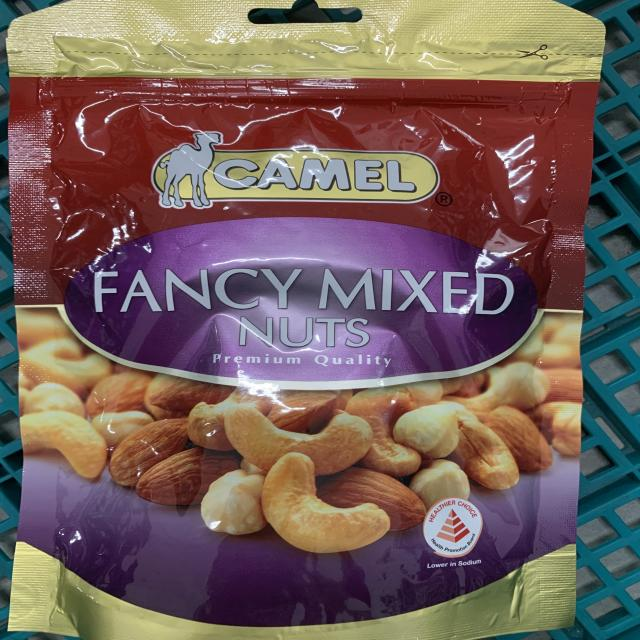object_name: (13, 6, 580, 640)
